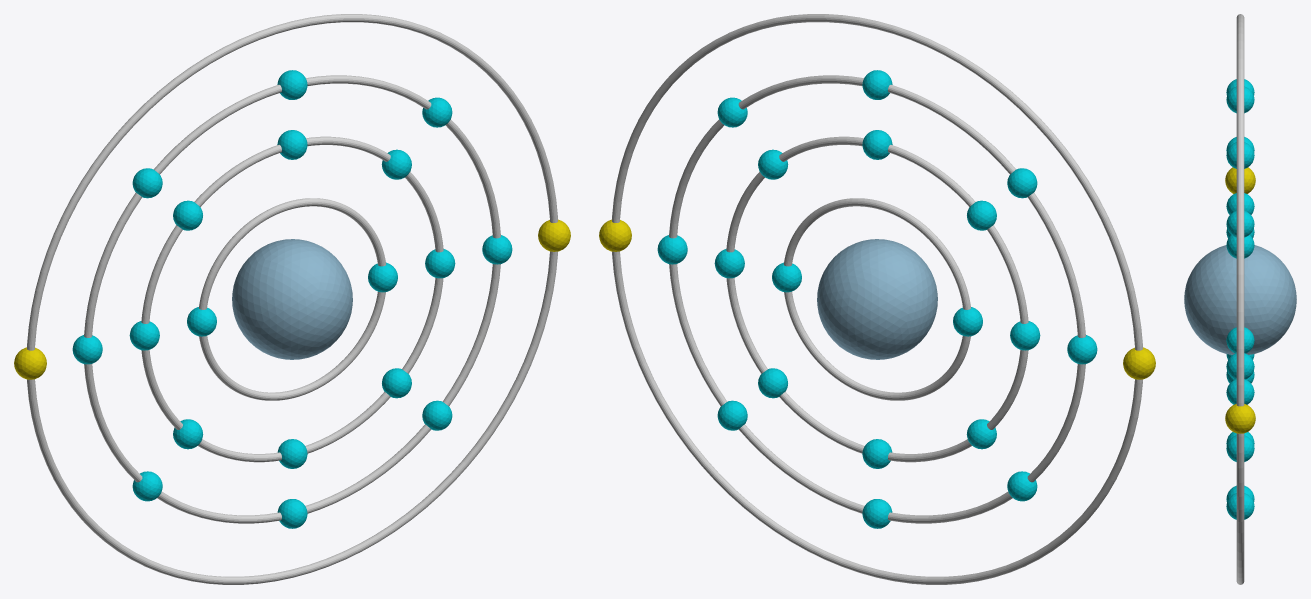
3 views of the same model, side by side, from view 1: azimuth 30°, elevation 25°; view 2: azimuth 150°, elevation 25°; view 3: azimuth 270°, elevation 25° (orthographic). The views are drawn at different scales.
Parts seen in each view (by area): view 1: Camada_4, Nucleo_Ca, Camada_3, Camada_2, Camada_1, e4_2, e4_1, e3_4, e3_8, e2_4, e2_8, e3_5 (+9 smaller); view 2: Camada_4, Nucleo_Ca, Camada_3, Camada_2, Camada_1, e4_2, e4_1, e3_4, e3_8, e2_4, e2_8, e3_5 (+9 smaller); view 3: Nucleo_Ca, Camada_4, e4_1, e4_2, e3_2, e3_3, e2_8, e1_1, e2_3, e2_1, e3_8, e3_1 (+4 smaller).
Boxes of the visible parts, box(x1,y1,x2,y2) form: Camada_4: box(27, 14, 557, 584); Nucleo_Ca: box(232, 239, 352, 359); Camada_3: box(84, 75, 500, 523); Camada_2: box(141, 136, 443, 462); Camada_1: box(199, 198, 386, 400); e4_2: box(14, 347, 46, 379); e4_1: box(538, 219, 570, 251); e3_4: box(132, 168, 162, 198); e3_8: box(422, 400, 452, 430); e2_4: box(173, 200, 202, 230); e2_8: box(382, 368, 411, 398); e3_5: box(72, 335, 102, 364); Camada_4: box(612, 14, 1142, 584); Nucleo_Ca: box(817, 239, 937, 359); Camada_3: box(669, 75, 1085, 523); Camada_2: box(726, 136, 1028, 462); Camada_1: box(783, 198, 970, 400); e4_2: box(1123, 347, 1155, 379); e4_1: box(599, 219, 631, 251); e3_4: box(1007, 168, 1037, 198); e3_8: box(717, 400, 747, 430); e2_4: box(967, 200, 996, 230); e2_8: box(758, 368, 787, 398); e3_5: box(1067, 335, 1097, 364); Nucleo_Ca: box(1184, 245, 1296, 354); Camada_4: box(1236, 14, 1244, 584); e4_1: box(1225, 404, 1255, 433); e4_2: box(1225, 167, 1255, 193); e3_2: box(1226, 211, 1254, 237); e3_3: box(1226, 86, 1254, 113); e2_8: box(1226, 435, 1254, 461); e1_1: box(1226, 327, 1254, 353); e2_3: box(1226, 142, 1254, 168); e2_1: box(1226, 353, 1254, 379); e3_8: box(1226, 493, 1254, 519); e3_1: box(1226, 379, 1254, 404).
Bounding box in the file's own units: 2.32 × 2.23 × 0.44.
